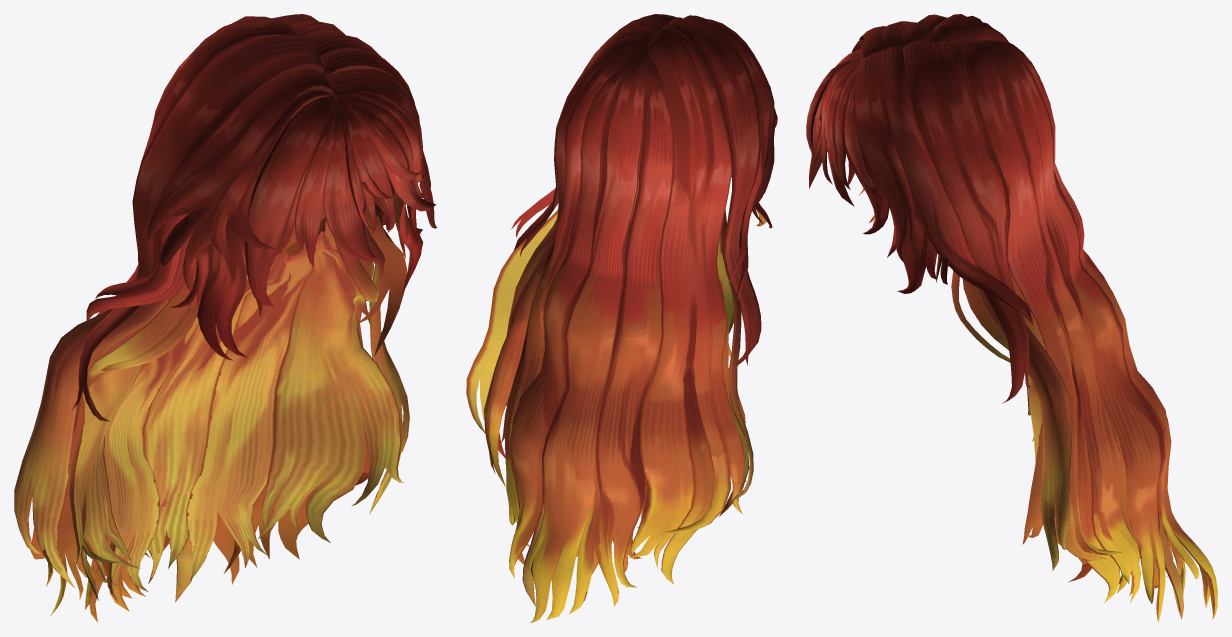
Rendered from hair_l1.fbx.
The picture shows the model from 3 angles, left to right: view 1: azimuth 30°, elevation 25°; view 2: azimuth 150°, elevation 25°; view 3: azimuth 270°, elevation 25°; orthographic projection. The views are drawn at different scales.
Parts seen in each view (by area): view 1: obj1; view 2: obj1; view 3: obj1.
Part boxes in pixels (x1,y1,x2,y2): obj1: (14, 14, 437, 622); obj1: (466, 14, 777, 622); obj1: (806, 14, 1217, 622).
Bounding box in the file's own units: 541 × 928 × 592.
Materials: 1 (1 with a texture image).
